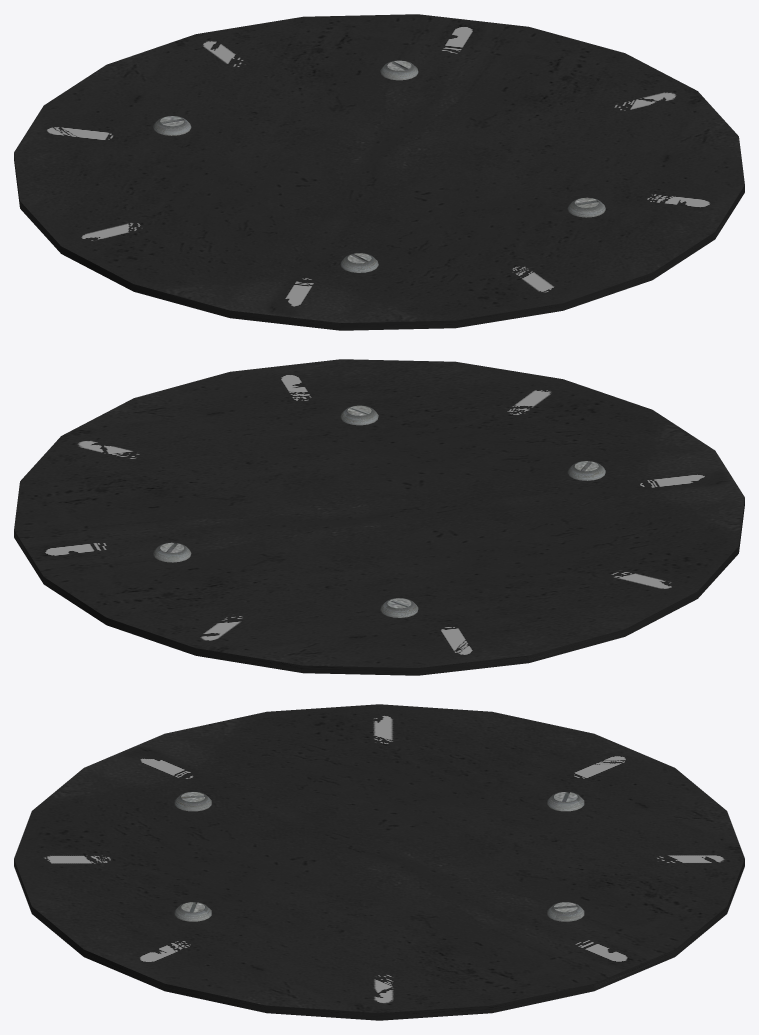
The model's file is F_KnobFrame_01.fbx.
The picture shows the model from 3 angles, top to bottom: view 1: azimuth 30°, elevation 25°; view 2: azimuth 150°, elevation 25°; view 3: azimuth 270°, elevation 25°; orthographic projection.
Visible parts, largest first — view 1: F_KnobFrame_01; view 2: F_KnobFrame_01; view 3: F_KnobFrame_01.
Part boxes in pixels (left/top/right/bottom): F_KnobFrame_01: left=14, top=14, right=744, bottom=330; F_KnobFrame_01: left=14, top=359, right=744, bottom=675; F_KnobFrame_01: left=14, top=704, right=744, bottom=1020.
Bounding box in the file's own units: 101 × 2.17 × 101.
1 material, 1 textured.
